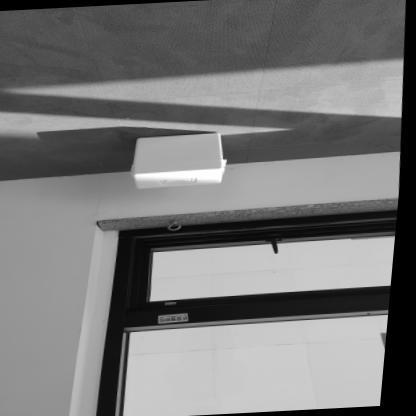DDL: (130, 131, 233, 190)
